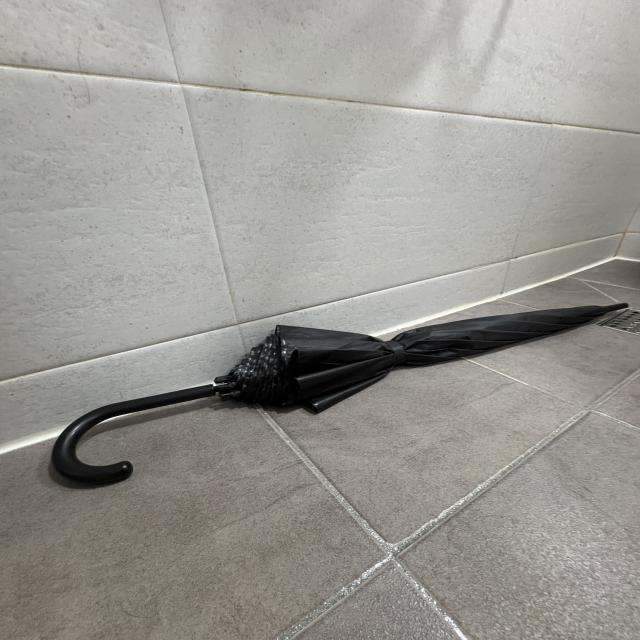umbrella: (51, 300, 628, 486)
